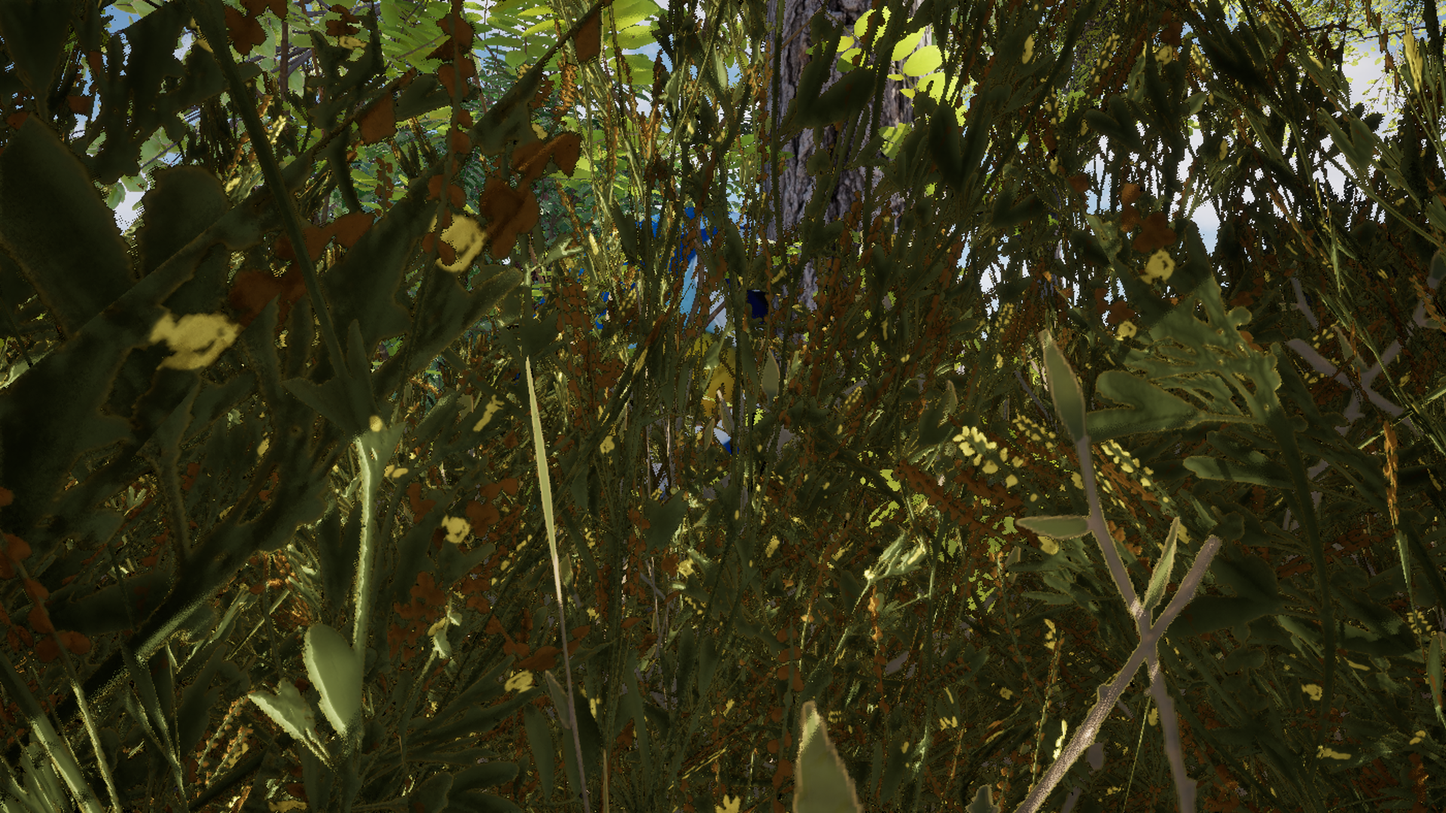Piplup: (337, 0, 1147, 813)
